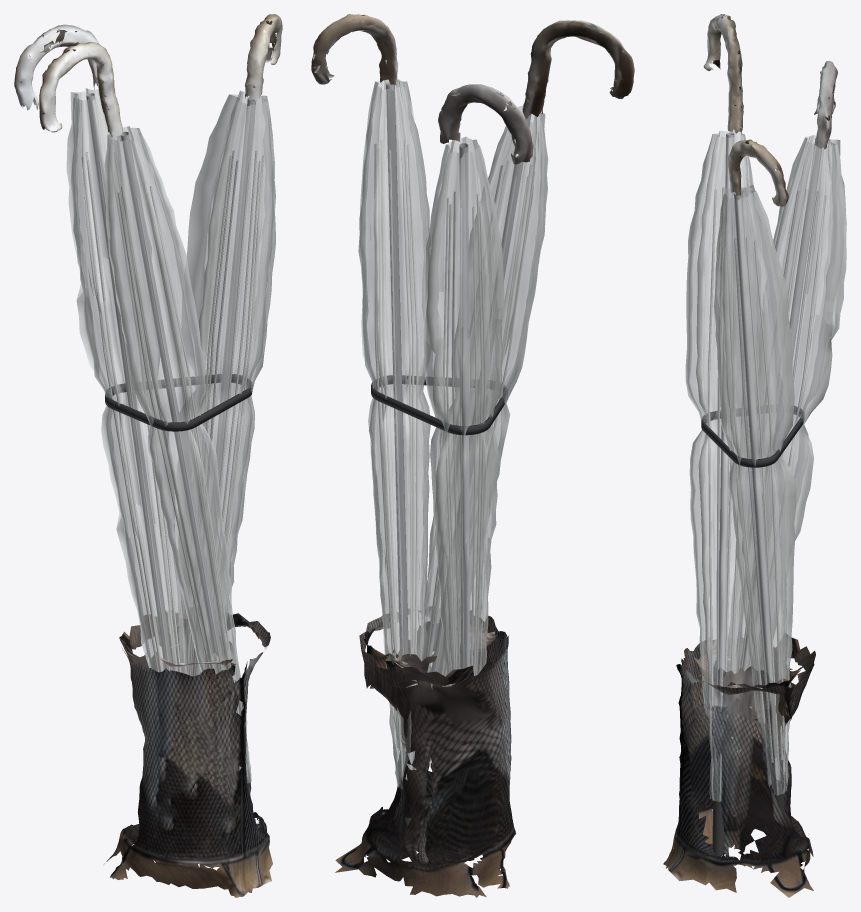
The model's file is genkan_umbrella.glb.
The picture shows the model from 3 angles, left to right: view 1: azimuth 30°, elevation 25°; view 2: azimuth 150°, elevation 25°; view 3: azimuth 270°, elevation 25°; orthographic projection. The views are drawn at different scales.
Visible parts, largest first — view 1: scan; view 2: scan; view 3: scan.
Part boxes in pixels (bbox=[...]): scan: bbox=[14, 14, 282, 897]; scan: bbox=[311, 14, 634, 897]; scan: bbox=[663, 14, 846, 897].
Size of the model in its own units: 0.3002 by 0.8816 by 0.1863.
Materials: 7 (1 with a texture image).
